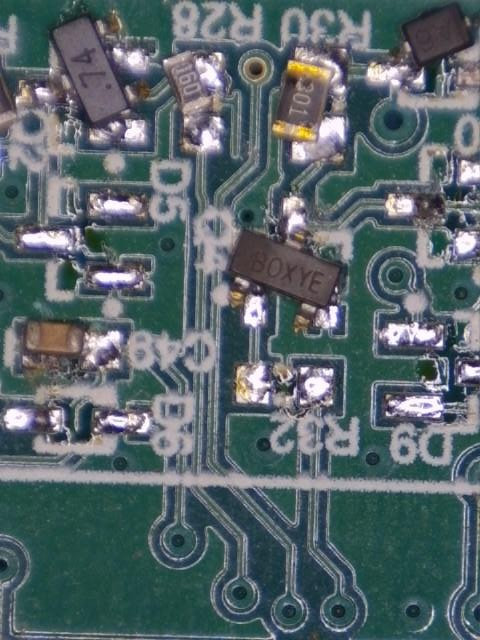pcb_defect: (17, 12, 151, 144), (226, 198, 343, 330), (368, 1, 480, 86), (270, 46, 349, 160), (162, 50, 227, 150), (22, 318, 123, 371)
